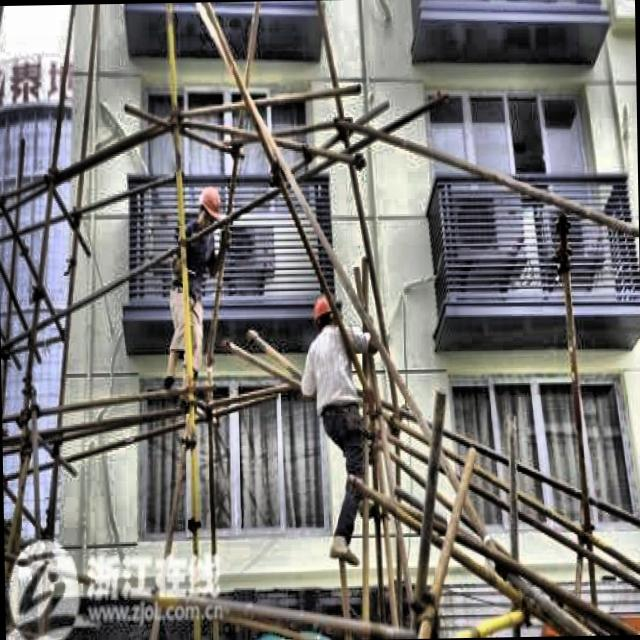helmet: (311, 284, 346, 339), (196, 180, 225, 232)
